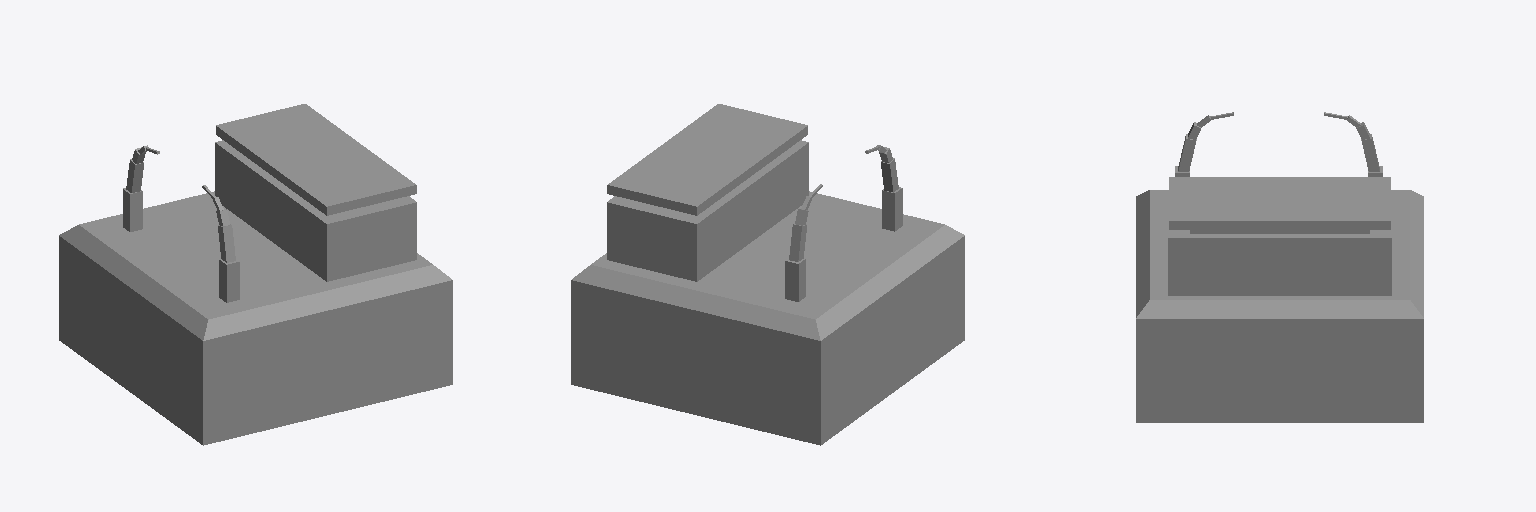
Rendered from item_encoder.obj.
3 views of the same model, side by side, from view 1: azimuth 30°, elevation 25°; view 2: azimuth 150°, elevation 25°; view 3: azimuth 270°, elevation 25° (orthographic).
Parts seen in each view (by area): view 1: Cube, Cube.001; view 2: Cube, Cube.001; view 3: Cube, Cube.001, Cube.012_Cube.013.
Boxes of the visible parts, <box> form: Cube: <box>59,104,452,445</box>; Cube.001: <box>123,145,239,302</box>; Cube: <box>571,104,964,445</box>; Cube.001: <box>785,145,902,301</box>; Cube: <box>1136,177,1423,422</box>; Cube.001: <box>1175,112,1382,176</box>; Cube.012_Cube.013: <box>1190,230,1369,233</box>.
Bounding box in the file's own units: 1 × 0.8132 × 1.